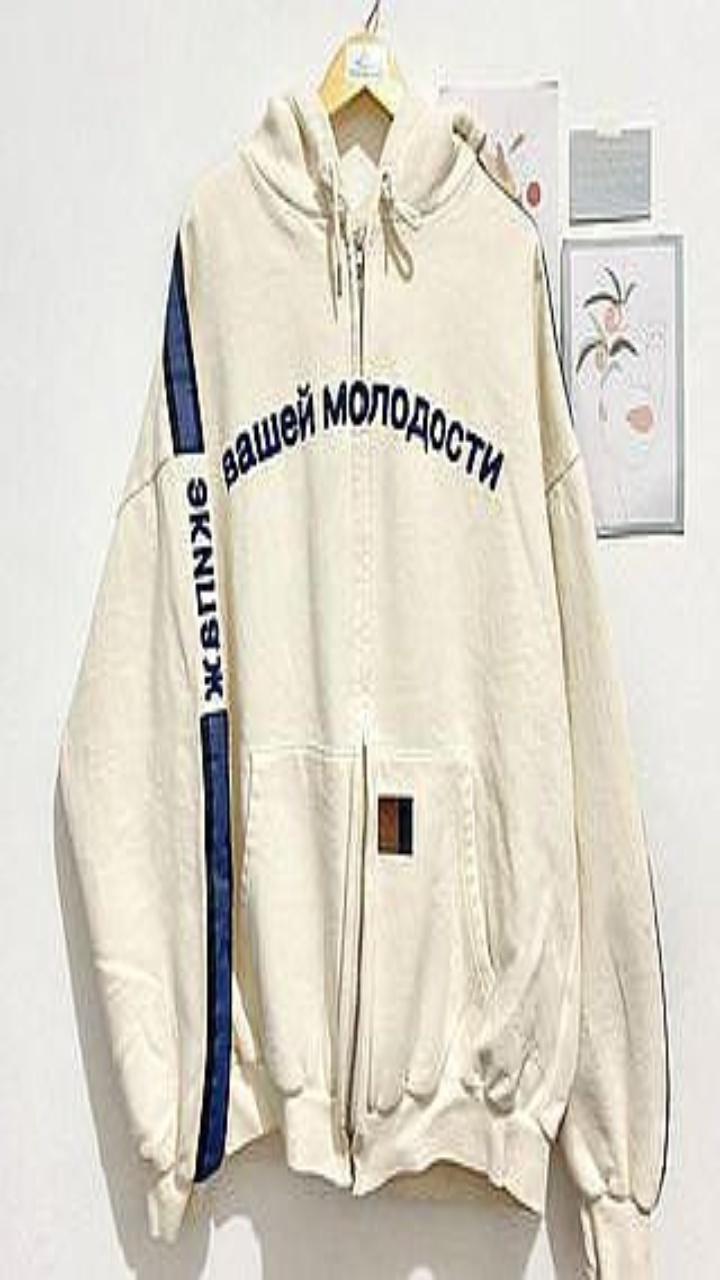Hoodie: (60, 85, 668, 1279)
